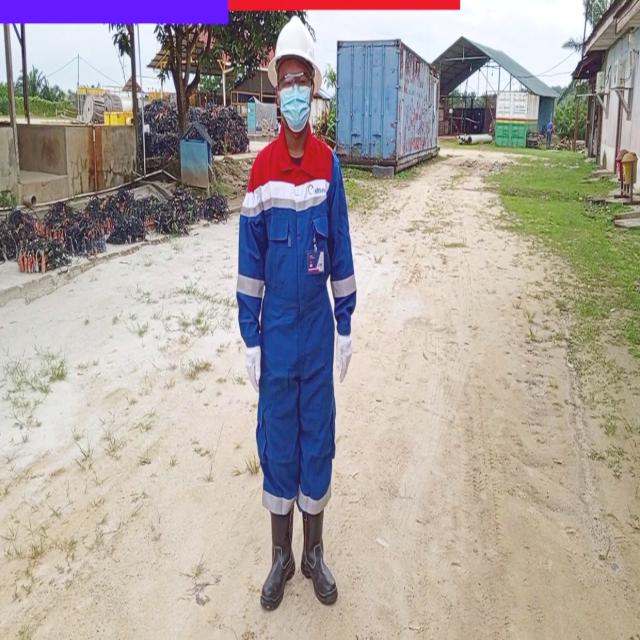Gloves: (247, 344, 264, 400), (336, 332, 352, 386)
Hardhat: (263, 15, 324, 90)
Mask: (282, 86, 313, 133)
Overall Suit: (238, 143, 357, 516)
Safety Boots: (253, 513, 296, 613), (301, 513, 339, 607)
